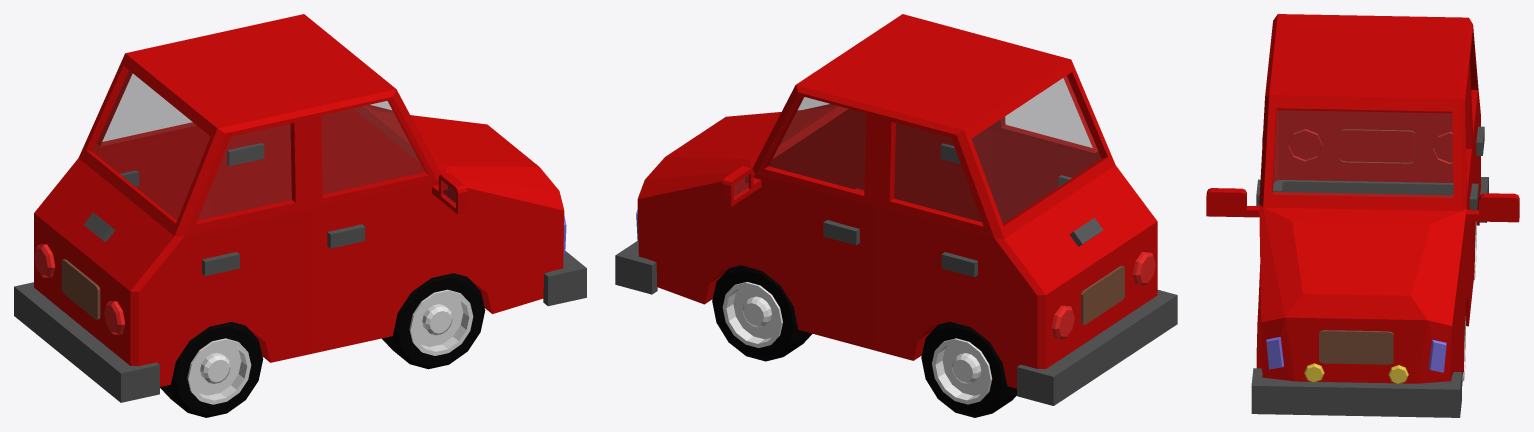
Rendered from turn_right.glb.
3 views of the same model, side by side, from view 1: azimuth 30°, elevation 25°; view 2: azimuth 150°, elevation 25°; view 3: azimuth 270°, elevation 25° (orthographic). The views are drawn at different scales.
Visible parts, largest first — view 1: red car; view 2: red car; view 3: red car.
Part boxes in pixels (x1,y1,x2,y2): red car: [14, 14, 586, 417]; red car: [615, 14, 1177, 417]; red car: [1206, 14, 1519, 417].
Size of the model in its own units: 5.44 by 3.21 by 3.32.
